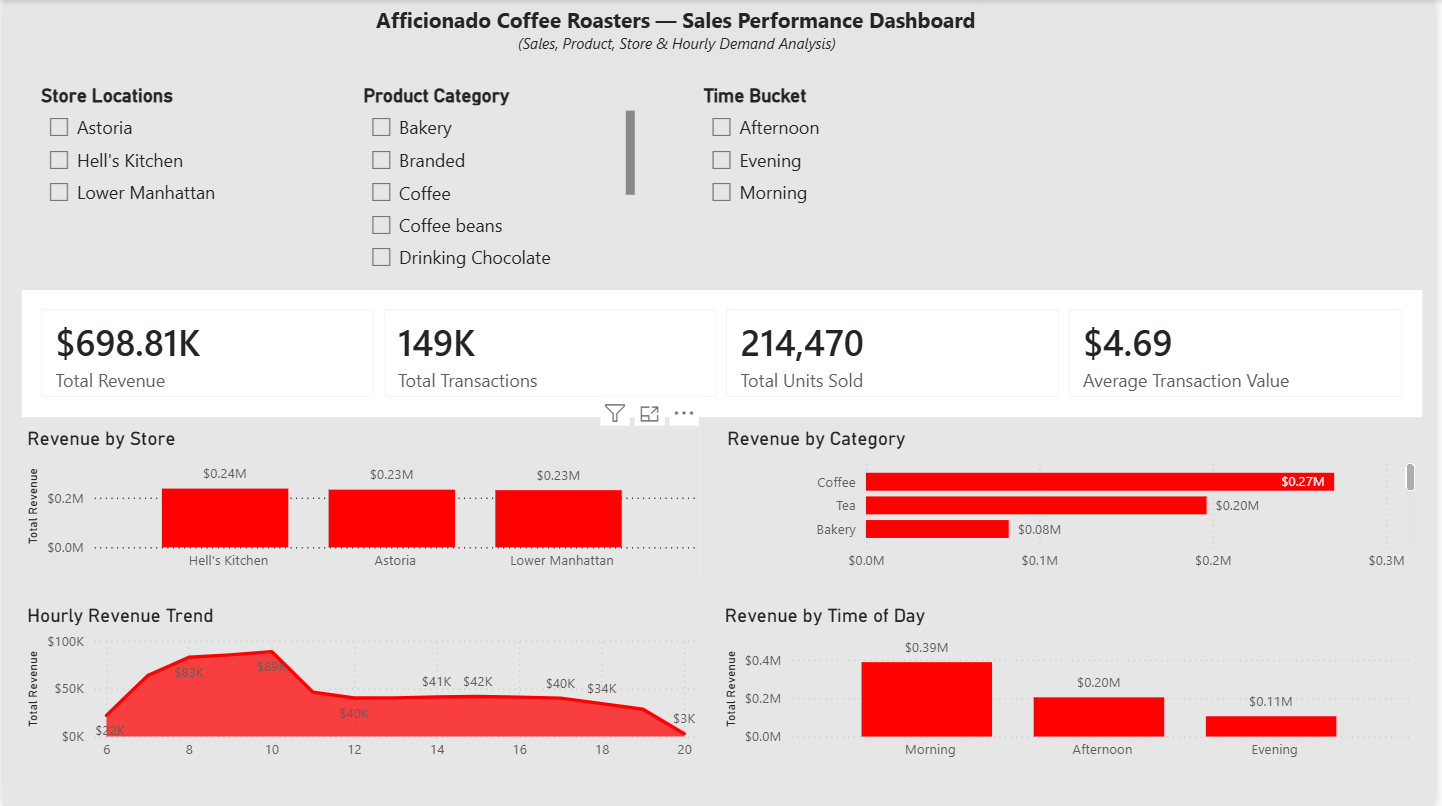

The page's visual inventory and layout, read from the dashboard file:
{"tool":"powerbi","page":{"name":"Page 1","canvas":[1280,720],"ordinal":0},"visuals":[{"type":"cardVisual","title":"AFFICIONADO COFFEE ROASTERS ","fields":{"Data":["processed_coffee_data.Total Revenue","processed_coffee_data.Total Transactions","processed_coffee_data.Total Units Sold","processed_coffee_data.Average Transaction Value"]},"box":[16.3,259.3,1251.2,114],"z":0},{"type":"clusteredColumnChart","title":"Revenue by Store","fields":{"Category":["processed_coffee_data.store_location"],"Y":["processed_coffee_data.Total Revenue"]},"box":[16.3,381.4,607,137.2],"z":1000},{"type":"clusteredBarChart","title":"Revenue by Category","fields":{"Category":["processed_coffee_data.product_category"],"Y":["processed_coffee_data.Total Revenue"]},"box":[641.9,381.4,624.4,137.2],"z":2000},{"type":"lineChart","title":"Hourly Revenue Trend","fields":{"Category":["processed_coffee_data.hour"],"Y":["processed_coffee_data.Total Revenue"]},"box":[16.3,539.5,607,148.8],"z":3000},{"type":"clusteredColumnChart","title":"Revenue by Time of Day","fields":{"Category":["processed_coffee_data.time_bucket"],"Y":["processed_coffee_data.Total Revenue"]},"box":[639.5,539.5,624.4,148.8],"z":4000},{"type":"slicer","title":"Store Locations","fields":{"Values":["processed_coffee_data.store_location"]},"box":[29.1,74.4,252.3,169.8],"z":5000},{"type":"slicer","title":"Product Category","fields":{"Values":["processed_coffee_data.product_category"]},"box":[317.4,74.4,252.3,169.8],"z":6000},{"type":"slicer","title":"Time Bucket","fields":{"Values":["processed_coffee_data.time_bucket"]},"box":[620.9,74.4,252.3,169.8],"z":7000},{"type":"textbox","box":[328,0,547.5,64.5],"z":8000}]}

Visuals, with their boxes in screenshot pixels (x1, y1, x2, y2), scaled from the page's 1280x720 canvas onto the 1442x806 screenshot:
"AFFICIONADO COFFEE ROASTERS " cardVisual: [x1=18, y1=290, x2=1428, y2=418]
"Revenue by Store" clusteredColumnChart: [x1=18, y1=427, x2=702, y2=581]
"Revenue by Category" clusteredBarChart: [x1=723, y1=427, x2=1427, y2=581]
"Hourly Revenue Trend" lineChart: [x1=18, y1=604, x2=702, y2=771]
"Revenue by Time of Day" clusteredColumnChart: [x1=720, y1=604, x2=1424, y2=771]
"Store Locations" slicer: [x1=33, y1=83, x2=317, y2=273]
"Product Category" slicer: [x1=358, y1=83, x2=642, y2=273]
"Time Bucket" slicer: [x1=699, y1=83, x2=984, y2=273]
textbox: [x1=370, y1=0, x2=986, y2=72]
